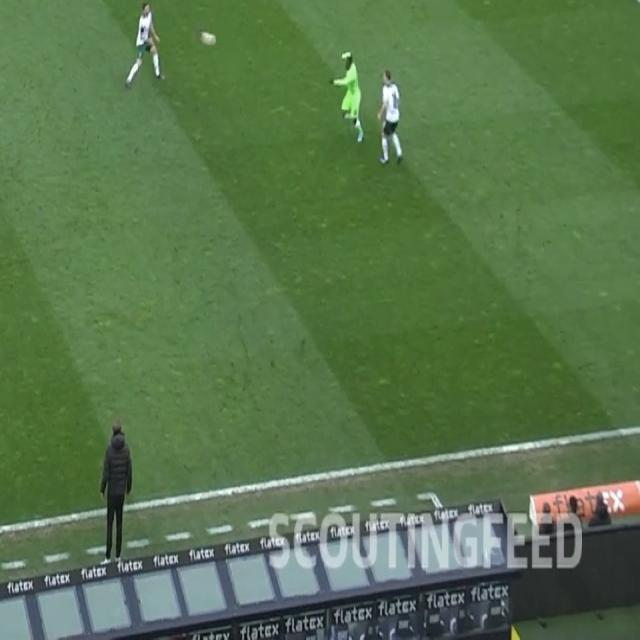ball: (198, 28, 216, 48)
